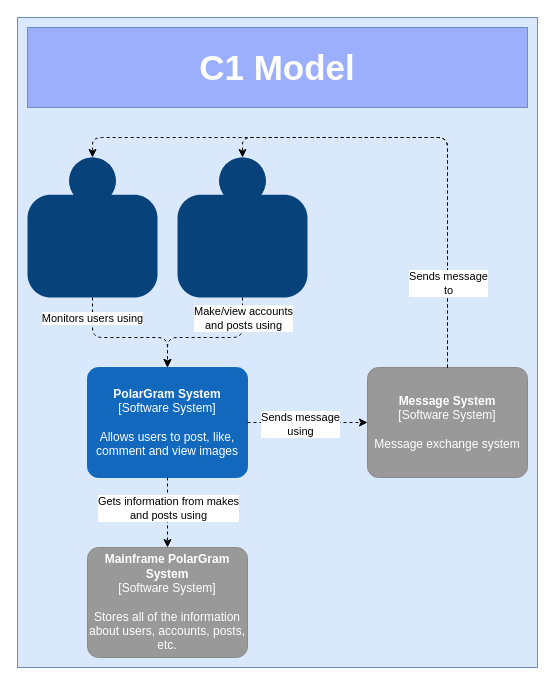
This 555x685 diagram has some shape labels left out. The shapes that lost their labels are listed below. From the top down, each one's box as (x1, y1, x2, y2) in pixels, then its label:
(27, 157, 157, 297): Admin [Person] Admin of PolarGram
(177, 157, 307, 297): User [Person] A user of PolarGram
